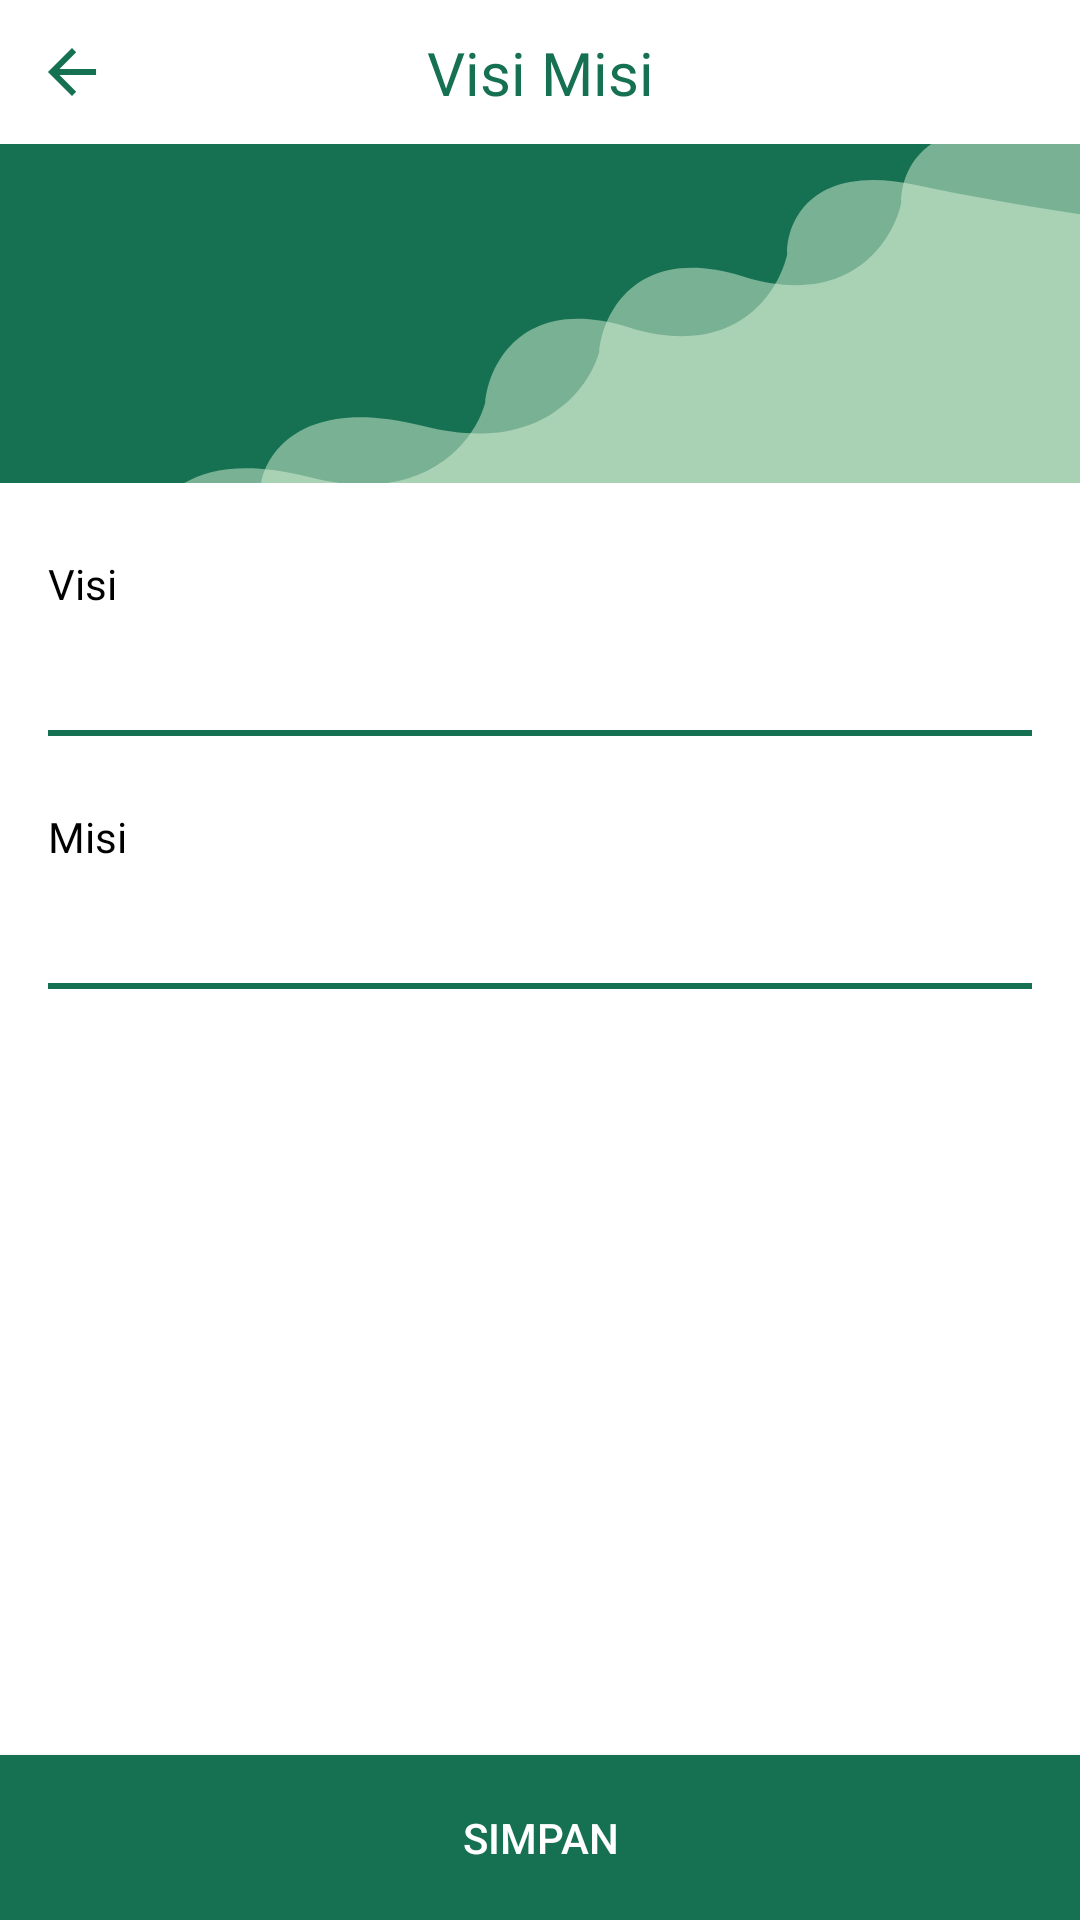

Point at icon controls on the screen. Image size 1080 × 1920, points as [x,y].
back: [72,72]
